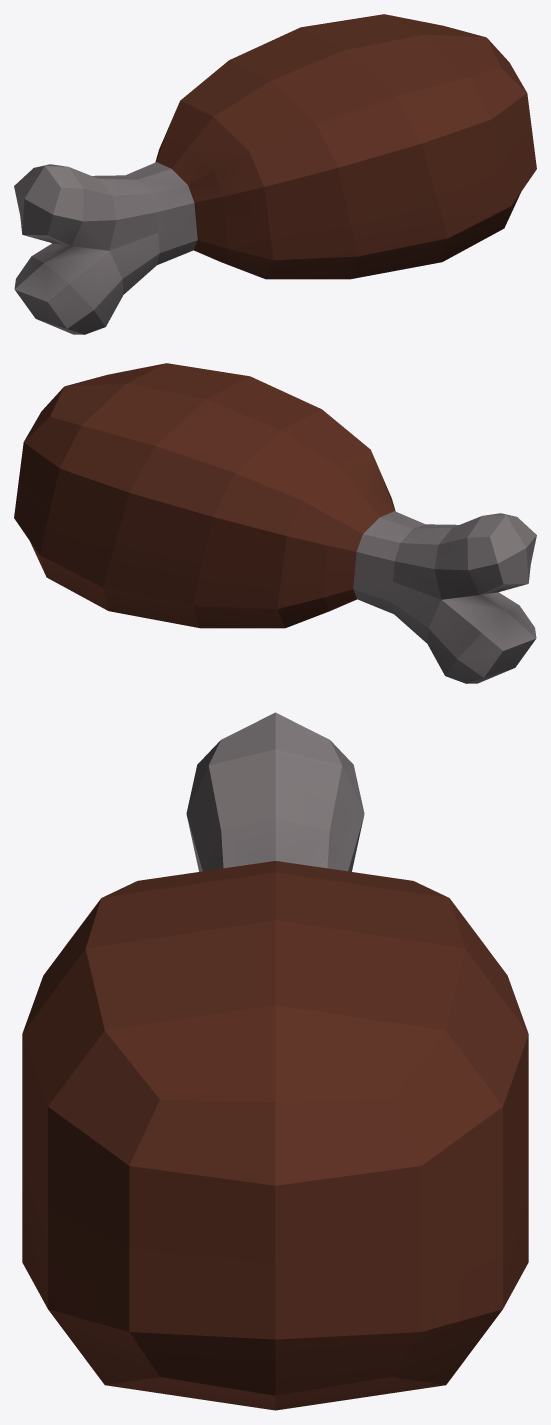
The model's file is pq_cuisse.glb.
The picture shows the model from 3 angles, top to bottom: view 1: azimuth 30°, elevation 25°; view 2: azimuth 150°, elevation 25°; view 3: azimuth 270°, elevation 25°; orthographic projection. The views are drawn at different scales.
Visible parts, largest first — view 1: ChickenLeg; view 2: ChickenLeg; view 3: ChickenLeg.
Boxes of the visible parts, <box> form: ChickenLeg: <box>14,14,536,334</box>; ChickenLeg: <box>14,363,536,683</box>; ChickenLeg: <box>22,712,528,1410</box>.
Size of the model in its own units: 0.1819 by 0.0756 by 0.0796.
